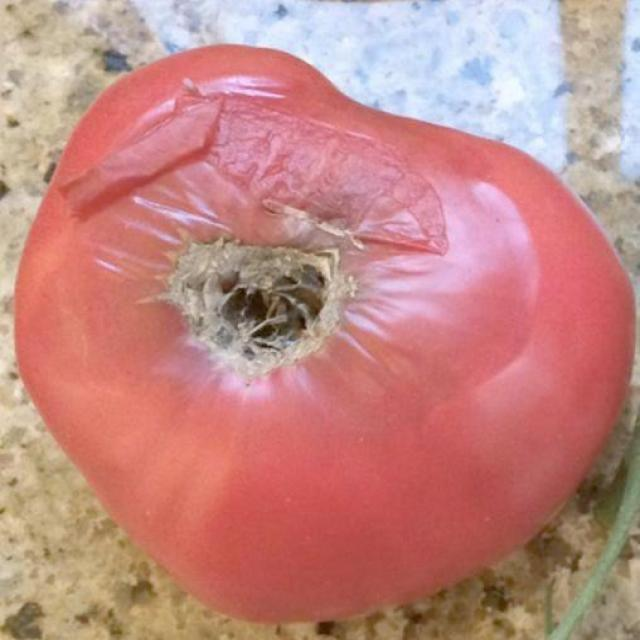Blossom End Rot Fruit: (91, 128, 245, 261)
